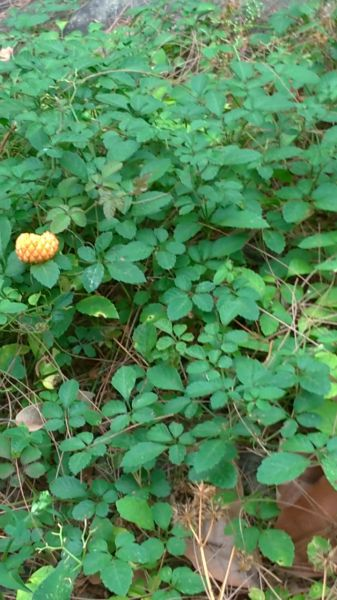eggs: (10, 225, 61, 265)
